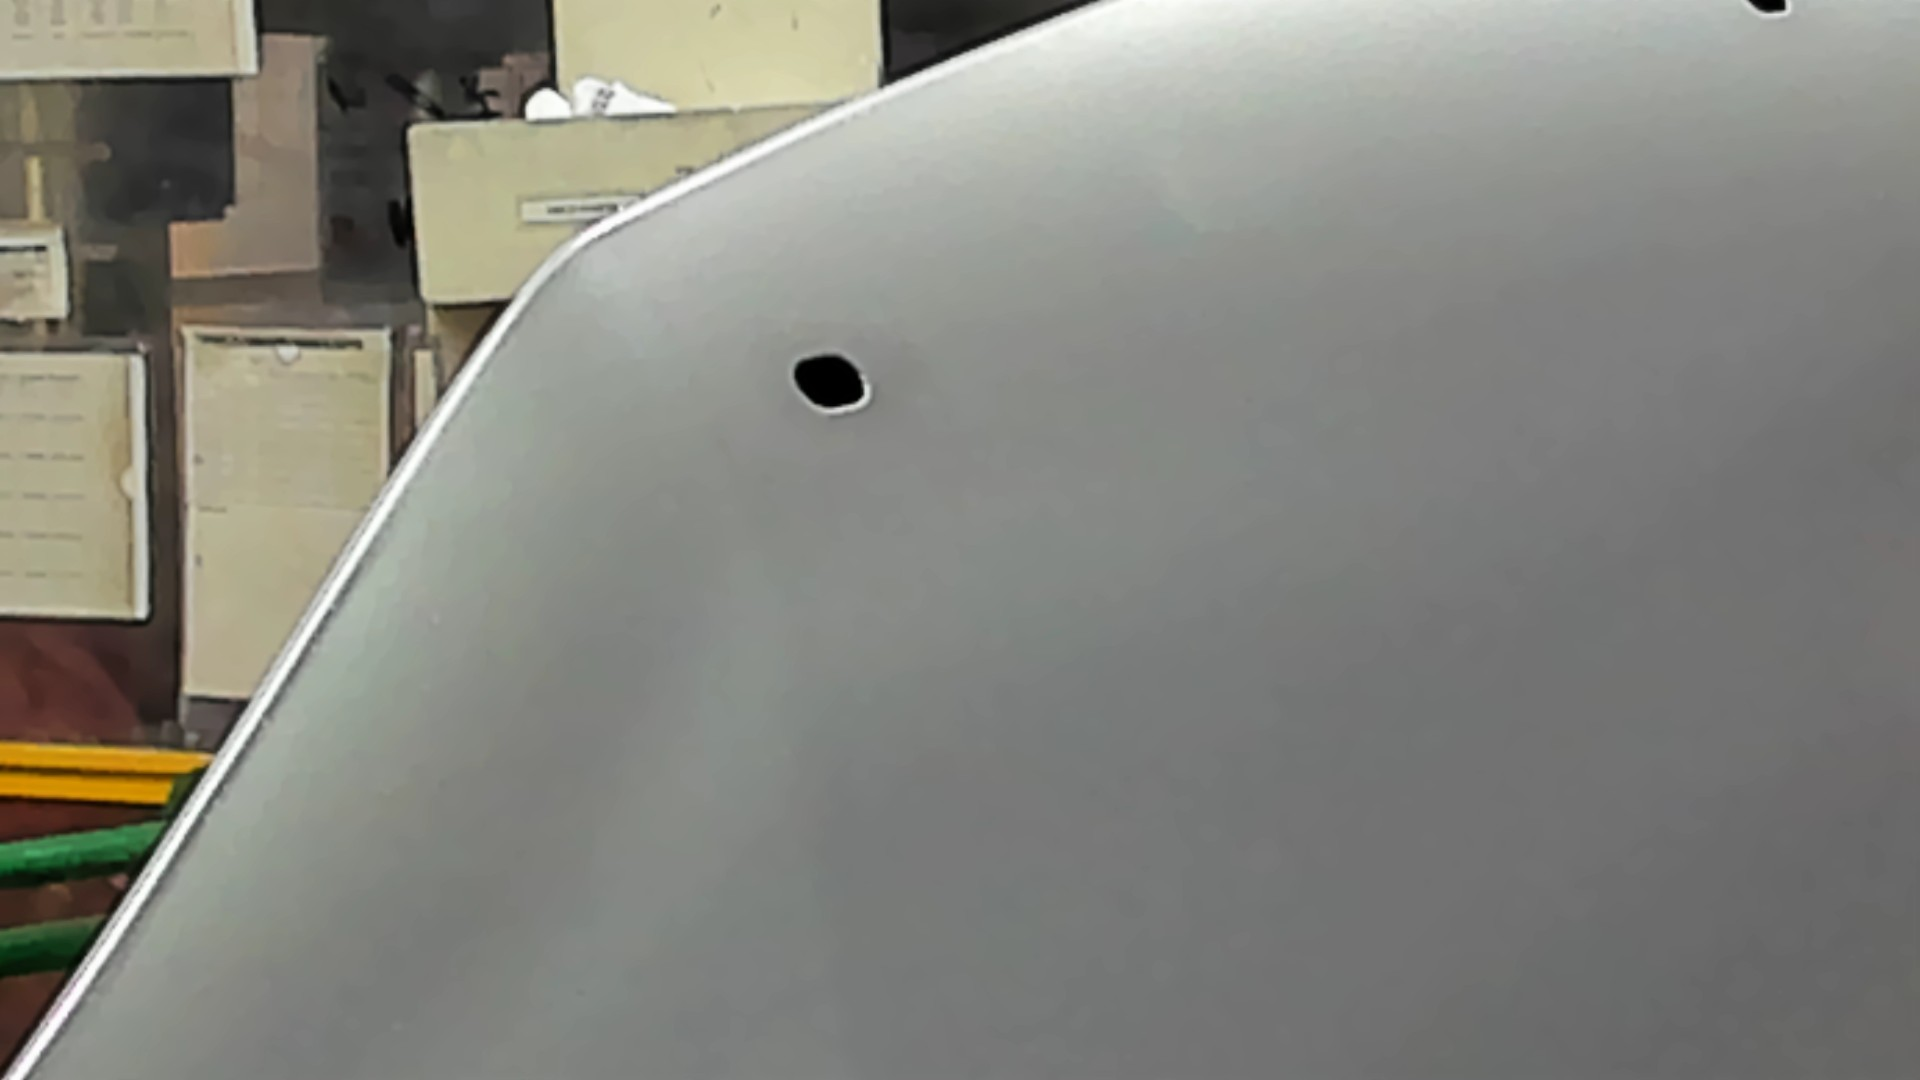amorfo: (785, 347, 873, 418), (1739, 1, 1797, 18)
